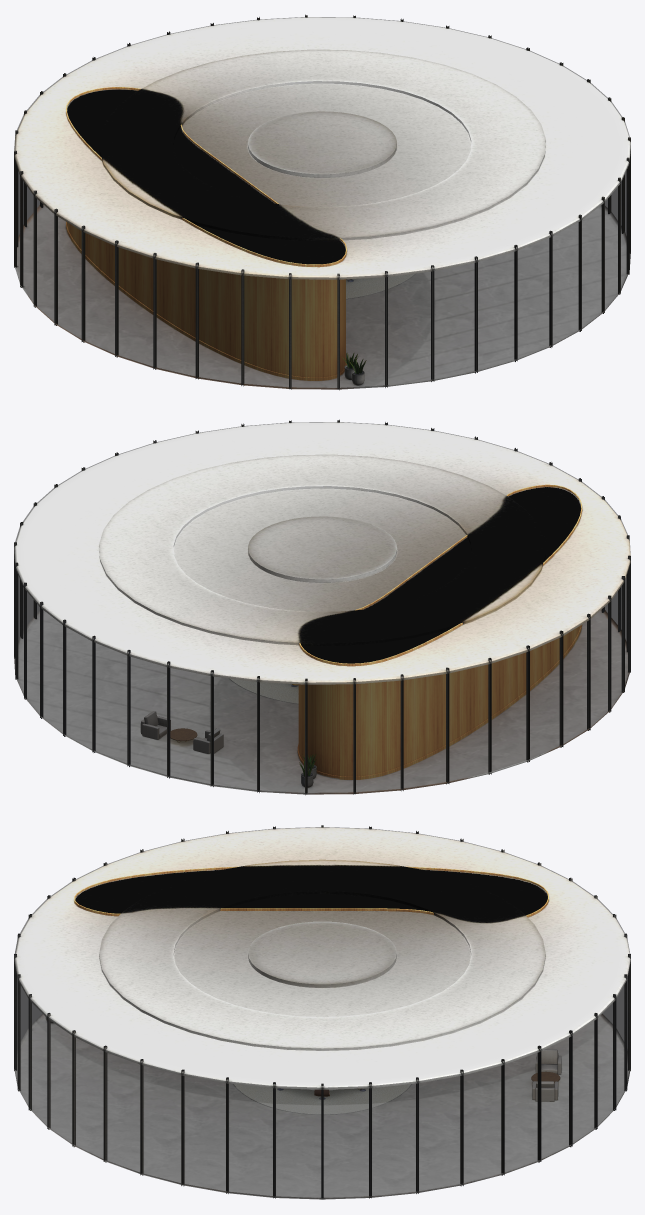
Rendered from room1.gltf.
3 views of the same model, one above another, from view 1: azimuth 30°, elevation 25°; view 2: azimuth 150°, elevation 25°; view 3: azimuth 270°, elevation 25° (orthographic).
Visible parts, largest first — view 1: Floor, Glass, Wall, SongSat, Tham; view 2: Floor, Glass, Wall, SongSat, Sofa3, Tham; view 3: Floor, Glass, SongSat, Tham, Wall, Sofa3.
Part boxes in pixels (<box>): Floor: <box>14,17,630,389</box>; Glass: <box>14,17,630,387</box>; Wall: <box>66,87,346,380</box>; SongSat: <box>14,14,630,390</box>; Tham: <box>346,273,414,298</box>; Floor: <box>14,422,630,794</box>; Glass: <box>14,422,630,792</box>; Wall: <box>297,484,582,779</box>; SongSat: <box>14,419,630,795</box>; Sofa3: <box>140,711,223,753</box>; Tham: <box>230,678,298,703</box>; Floor: <box>14,827,630,1199</box>; Glass: <box>14,827,630,1197</box>; SongSat: <box>14,825,630,1198</box>; Tham: <box>234,1084,410,1114</box>; Wall: <box>74,866,548,917</box>; Sofa3: <box>531,1049,561,1101</box>.
Bounding box in the file's own units: 61.34 × 12.89 × 61.34.
Materials: 5 (4 with a texture image).
